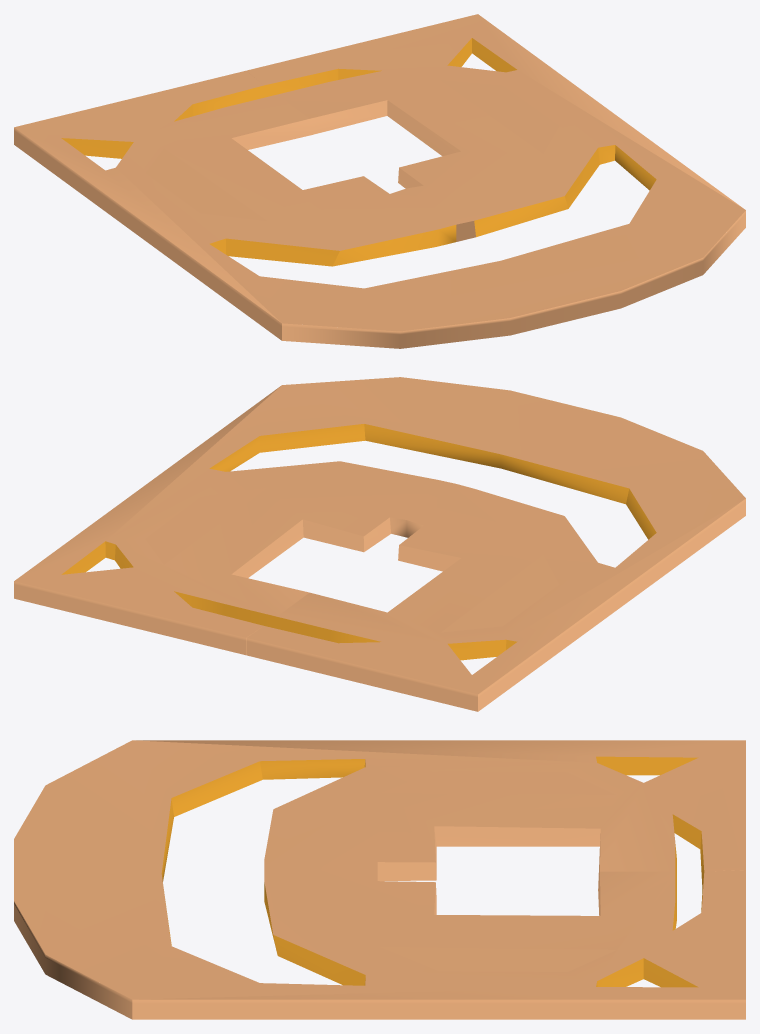
File: Praça 2.fbx
The picture shows the model from 3 angles, top to bottom: view 1: azimuth 30°, elevation 25°; view 2: azimuth 150°, elevation 25°; view 3: azimuth 270°, elevation 25°; orthographic projection. The views are drawn at different scales.
Parts seen in each view (by area): view 1: Plane.007; view 2: Plane.007; view 3: Plane.007.
Boxes of the visible parts, left/top/right/bottom form: Plane.007: left=14, top=14, right=745, bottom=348; Plane.007: left=14, top=377, right=745, bottom=711; Plane.007: left=14, top=740, right=745, bottom=1019.
Size of the model in its own units: 517 by 18.61 by 617.
